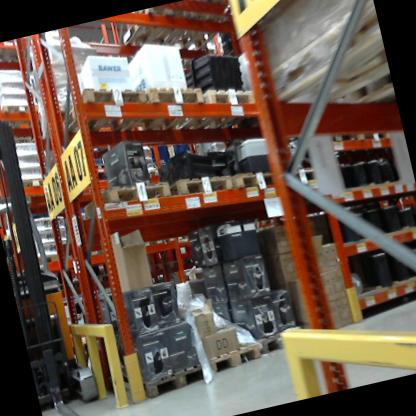forklift: (0, 107, 109, 416)
pallet: (238, 0, 398, 139), (45, 67, 160, 153), (171, 63, 280, 150), (116, 0, 244, 67), (120, 67, 222, 149), (65, 167, 177, 233), (104, 347, 214, 410), (143, 167, 236, 215), (219, 156, 290, 201), (202, 333, 267, 379), (0, 87, 60, 136), (251, 318, 315, 361), (280, 152, 333, 193), (316, 111, 358, 148), (135, 230, 175, 259), (0, 39, 30, 73), (365, 122, 392, 147)
